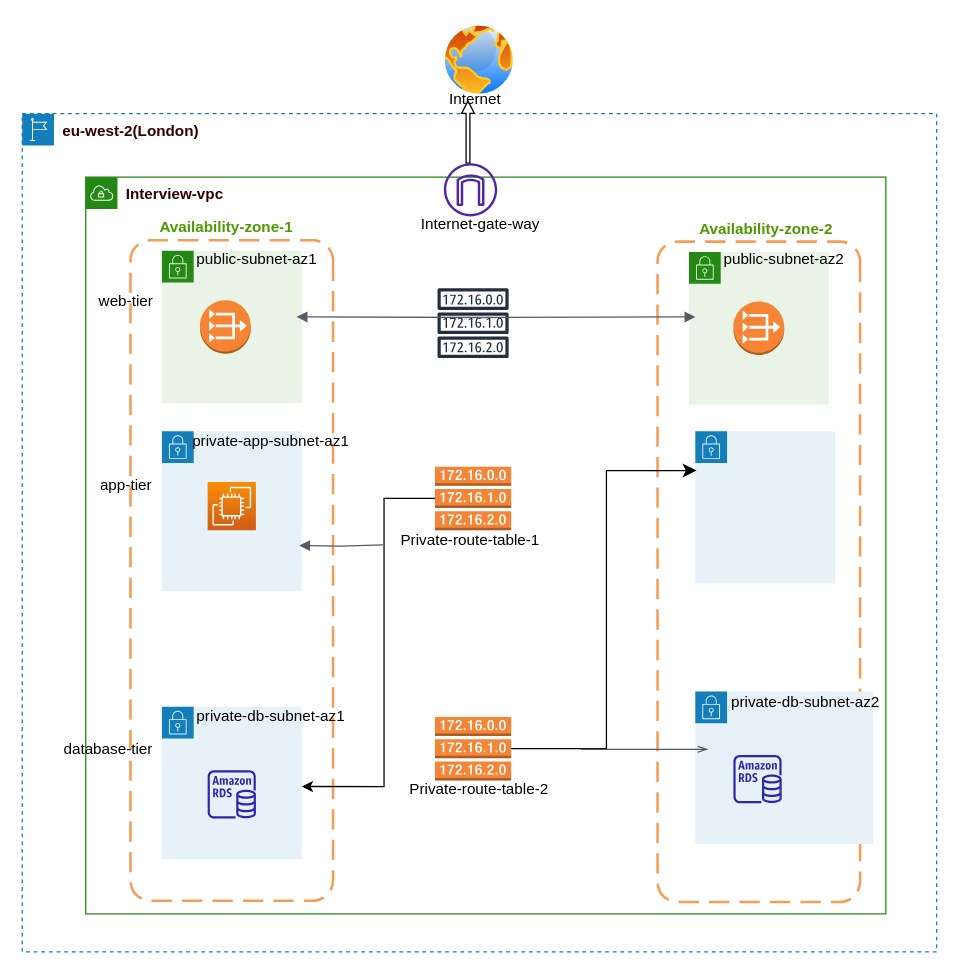
Image size: 959x974. Some labels were removed from this diagram. Here are the shapes that lost their labels. From the top down, the centre of each, then its label:
point (472, 322): Public-route-table
point (764, 507): private-app-subnet-az2
